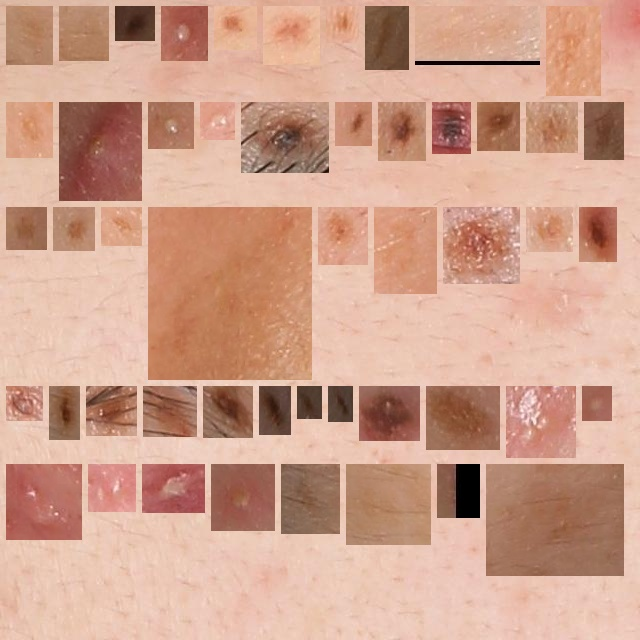melasma: (156, 215, 304, 372), (494, 472, 616, 568), (423, 14, 532, 57), (354, 472, 423, 537), (382, 215, 429, 286), (554, 14, 593, 88), (289, 472, 332, 526), (373, 14, 401, 62), (14, 14, 45, 57), (67, 14, 101, 53), (14, 110, 45, 150), (445, 472, 472, 510), (109, 215, 134, 238)
nevus: (249, 110, 321, 165), (451, 215, 512, 276), (434, 394, 492, 442), (271, 14, 312, 57), (367, 394, 412, 433), (326, 215, 360, 257), (386, 110, 418, 153), (151, 394, 189, 429), (534, 110, 570, 145), (211, 394, 245, 430), (94, 394, 129, 428), (592, 110, 616, 152), (534, 215, 565, 244), (485, 110, 512, 143), (587, 215, 609, 254), (440, 110, 463, 146), (222, 14, 249, 42), (61, 215, 87, 243), (343, 110, 364, 138), (57, 394, 72, 432), (267, 394, 283, 427), (123, 14, 147, 33), (14, 394, 35, 413), (334, 14, 351, 35), (336, 394, 345, 414), (305, 394, 314, 411)
pustule: (67, 110, 134, 193), (14, 472, 74, 532), (514, 394, 568, 450), (219, 472, 267, 523), (150, 472, 197, 505), (169, 14, 200, 53), (96, 472, 128, 504), (156, 110, 186, 141), (208, 110, 227, 132), (590, 394, 604, 413)
